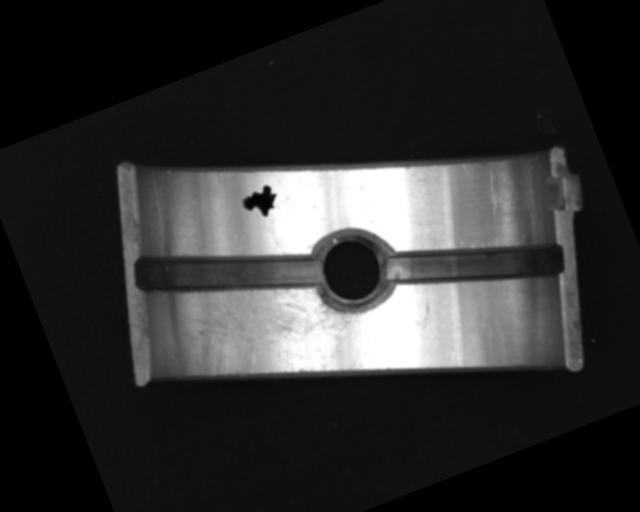blot: (237, 180, 285, 225)
gap: (133, 200, 323, 342), (381, 199, 568, 333)
hole: (300, 214, 404, 324)
nick: (475, 162, 511, 213)
scratch: (163, 239, 385, 433)
